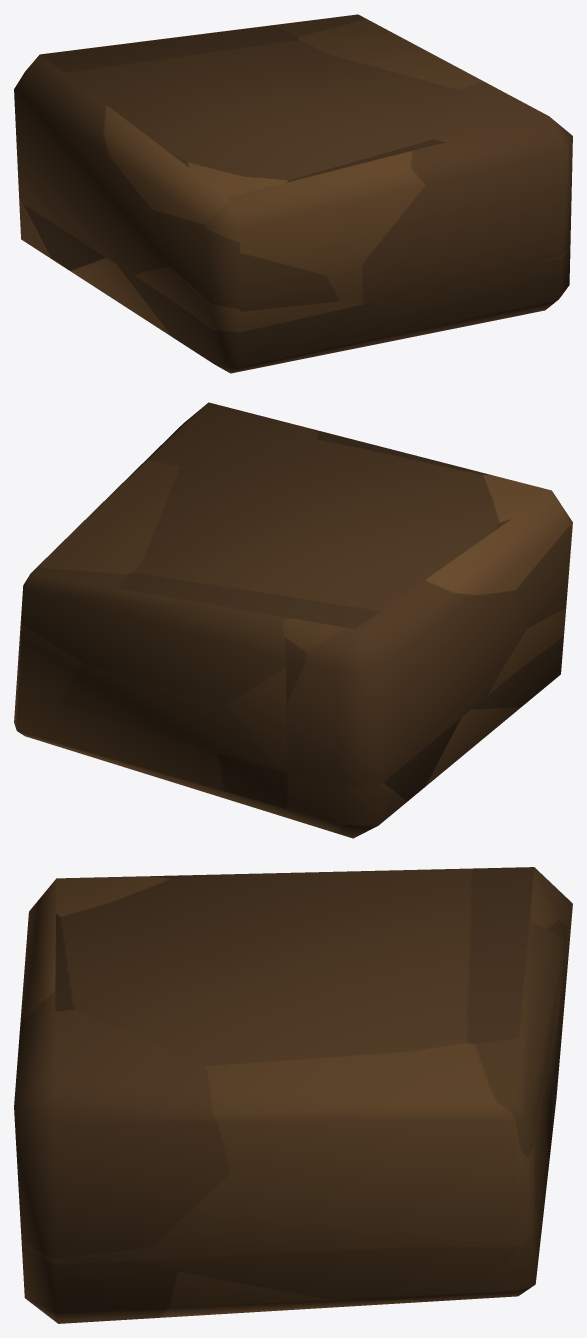
The model's file is Turba3.fbx.
3 renders of one model, top to bottom at view 1: azimuth 30°, elevation 25°; view 2: azimuth 150°, elevation 25°; view 3: azimuth 270°, elevation 25°, orthographic. The views are drawn at different scales.
Parts seen in each view (by area): view 1: Turba.002; view 2: Turba.002; view 3: Turba.002.
Boxes of the visible parts, x1=… form: Turba.002: x1=14, y1=14, x2=572, y2=373; Turba.002: x1=14, y1=402, x2=572, y2=838; Turba.002: x1=14, y1=867, x2=572, y2=1323.
Bounding box in the file's own units: 95.02 × 48.41 × 95.92.
Materials: 1 (1 with a texture image).
